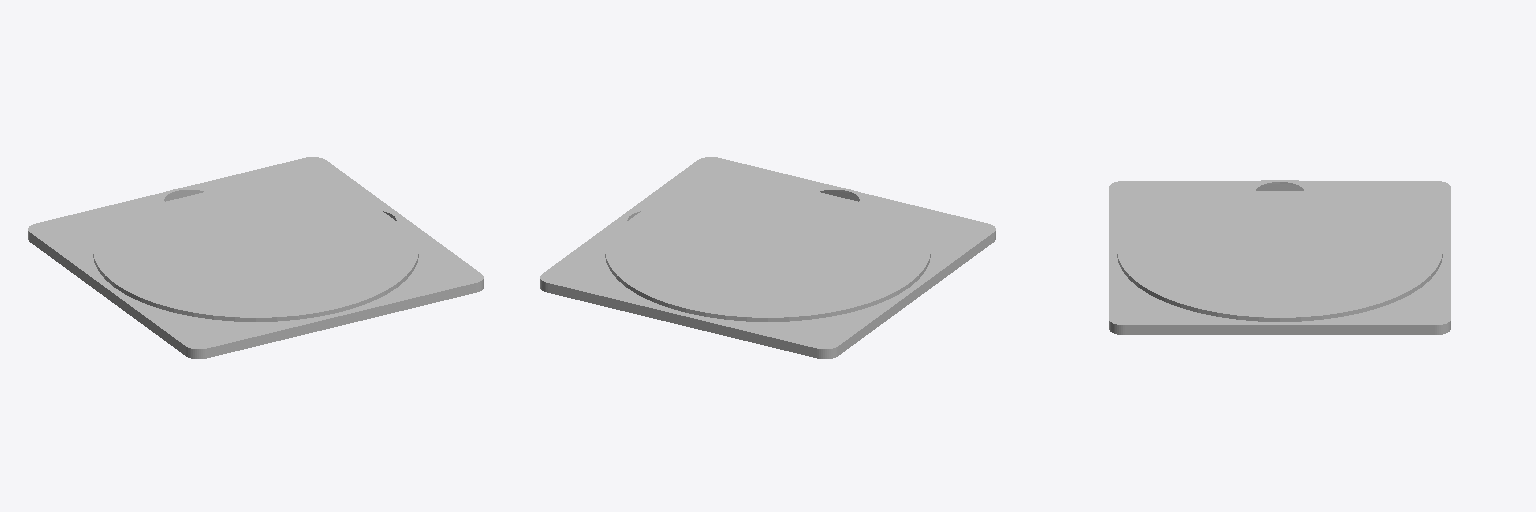
The model's file is board_bottom.obj.
3 views of the same model, side by side, from view 1: azimuth 30°, elevation 25°; view 2: azimuth 150°, elevation 25°; view 3: azimuth 270°, elevation 25° (orthographic).
Parts seen in each view (by area): view 1: board_ID236, board.015_ID360; view 2: board_ID236, board.015_ID360; view 3: board_ID236, board.015_ID360.
Part boxes in pixels (x1,y1,x2,y2): board_ID236: (28, 157, 483, 358); board.015_ID360: (93, 180, 418, 321); board_ID236: (540, 157, 995, 358); board.015_ID360: (605, 180, 930, 321); board_ID236: (1109, 181, 1450, 334); board.015_ID360: (1117, 180, 1442, 321).
Size of the model in its own units: 8.66 by 0.3937 by 8.66.